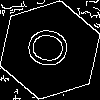O: (24, 25, 80, 73)
